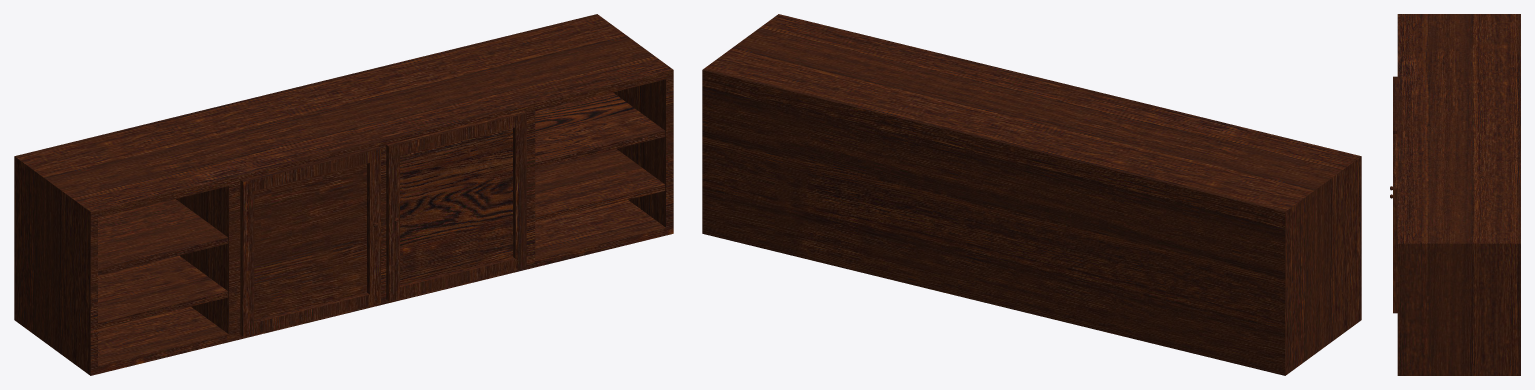
Rendered from High Cabinets.fbx.
3 views of the same model, side by side, from view 1: azimuth 30°, elevation 25°; view 2: azimuth 150°, elevation 25°; view 3: azimuth 270°, elevation 25° (orthographic). The views are drawn at different scales.
Parts seen in each view (by area): view 1: gggg; view 2: gggg; view 3: gggg.
Boxes of the visible parts, x1,y1,x2,y2 form: gggg: (14,14,673,375); gggg: (702,14,1361,375); gggg: (1390,14,1520,375).
Size of the model in its own units: 3.14 by 0.8452 by 0.7574.
Materials: 1 (1 with a texture image).
